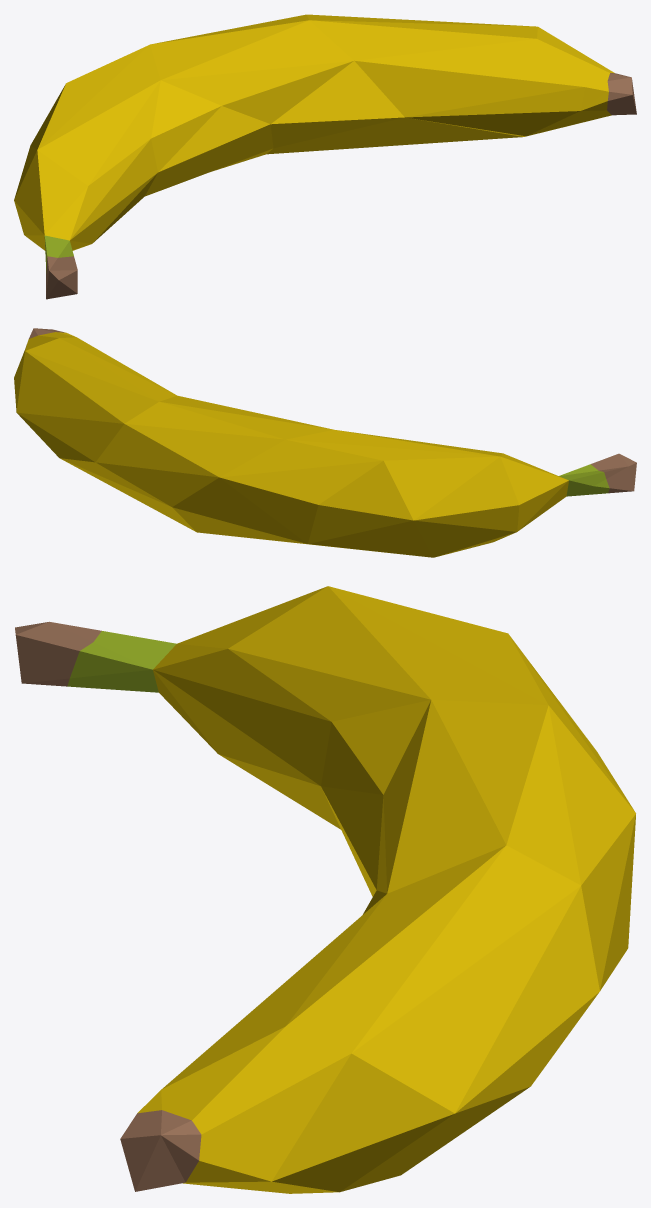
Rendered from banana.glb.
3 renders of one model, top to bottom at view 1: azimuth 30°, elevation 25°; view 2: azimuth 150°, elevation 25°; view 3: azimuth 270°, elevation 25°, orthographic. The views are drawn at different scales.
Visible parts, largest first — view 1: Low Poly Banana; view 2: Low Poly Banana; view 3: Low Poly Banana.
Boxes of the visible parts, x1,y1,x2,y2 form: Low Poly Banana: (14,14,636,299); Low Poly Banana: (14,328,636,557); Low Poly Banana: (15,586,635,1193).
Size of the model in its own units: 3.6 by 0.6764 by 1.69.
1 material, 1 textured.
